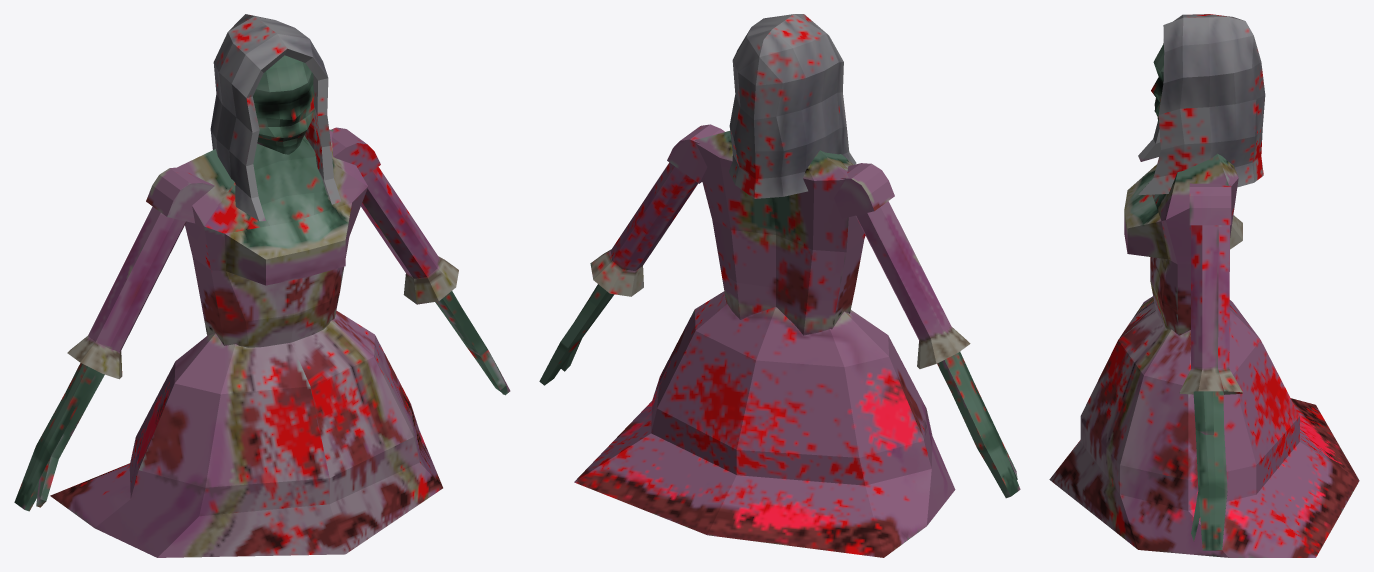
The model's file is enemy_braid.fbx.
3 renders of one model, left to right at view 1: azimuth 30°, elevation 25°; view 2: azimuth 150°, elevation 25°; view 3: azimuth 270°, elevation 25°, orthographic. The views are drawn at different scales.
Visible parts, largest first — view 1: Cube; view 2: Cube; view 3: Cube.
Boxes of the visible parts, x1,y1,x2,y2 form: Cube: (14,14,510,557); Cube: (539,14,1020,557); Cube: (1049,14,1359,557).
Bounding box in the file's own units: 111 × 103 × 62.54.
